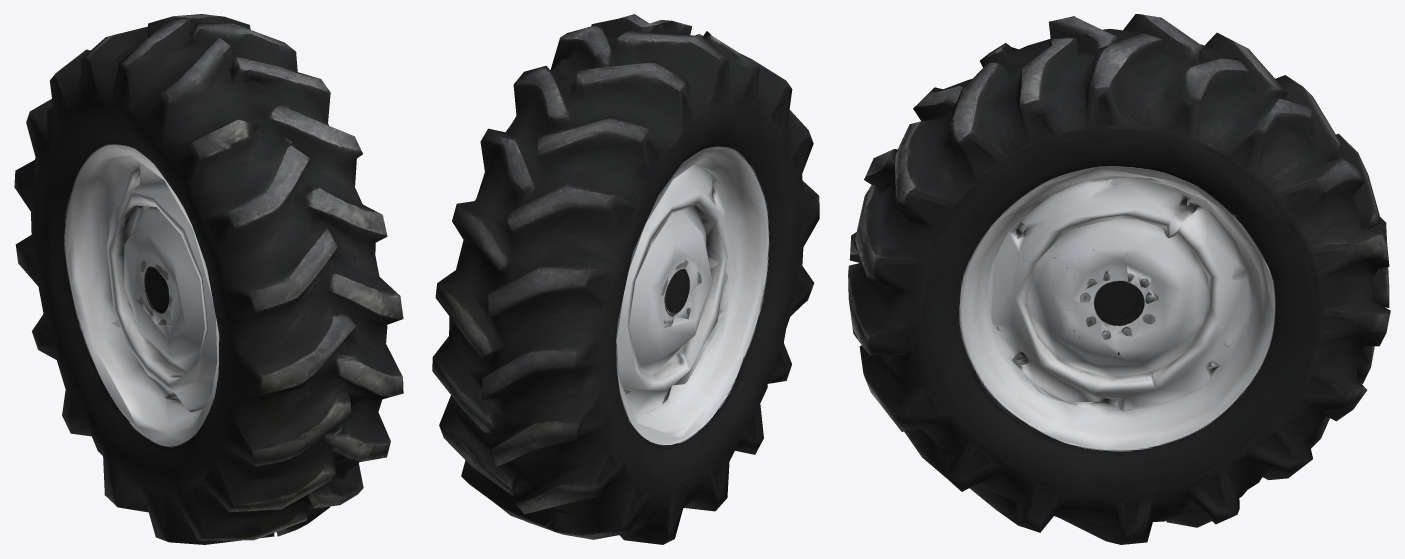
The model's file is tractor+tire+3d+model.glb.
The picture shows the model from 3 angles, left to right: view 1: azimuth 30°, elevation 25°; view 2: azimuth 150°, elevation 25°; view 3: azimuth 270°, elevation 25°; orthographic projection. The views are drawn at different scales.
Parts seen in each view (by area): view 1: tripo_node_2cd02f70-7d6d-43f8-a9b1-3a33fb5fe6b2; view 2: tripo_node_2cd02f70-7d6d-43f8-a9b1-3a33fb5fe6b2; view 3: tripo_node_2cd02f70-7d6d-43f8-a9b1-3a33fb5fe6b2.
Boxes of the visible parts, x1,y1,x2,y2 form: tripo_node_2cd02f70-7d6d-43f8-a9b1-3a33fb5fe6b2: (14,14,403,544); tripo_node_2cd02f70-7d6d-43f8-a9b1-3a33fb5fe6b2: (432,14,819,544); tripo_node_2cd02f70-7d6d-43f8-a9b1-3a33fb5fe6b2: (848,14,1390,544).
Bounding box in the file's own units: 0.3221 × 0.976 × 0.9784.
1 material, 1 textured.
